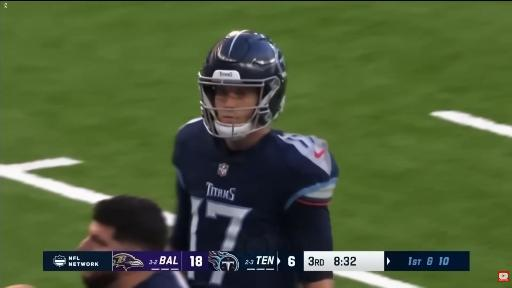Helmet: (199, 31, 286, 138)
Jersey: (171, 119, 338, 251)
Player: (171, 31, 338, 251)
